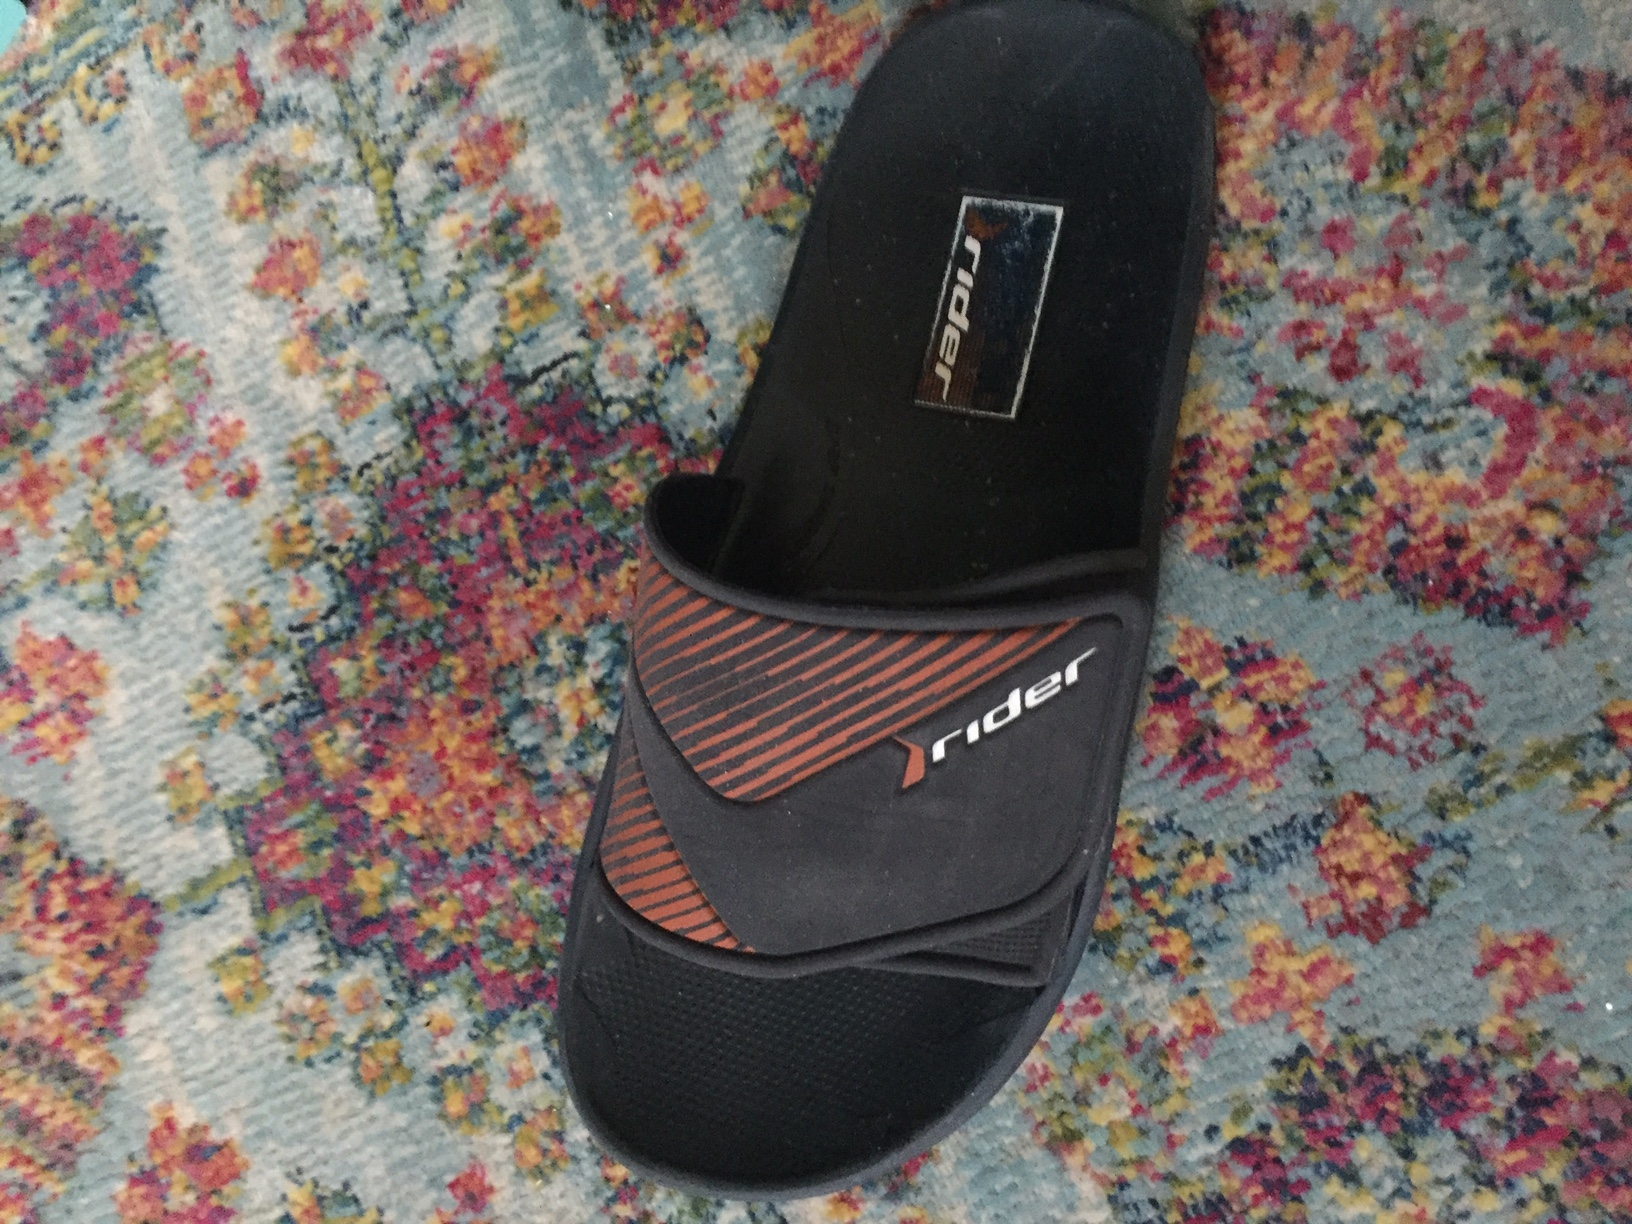car: (544, 4, 1228, 1224)
